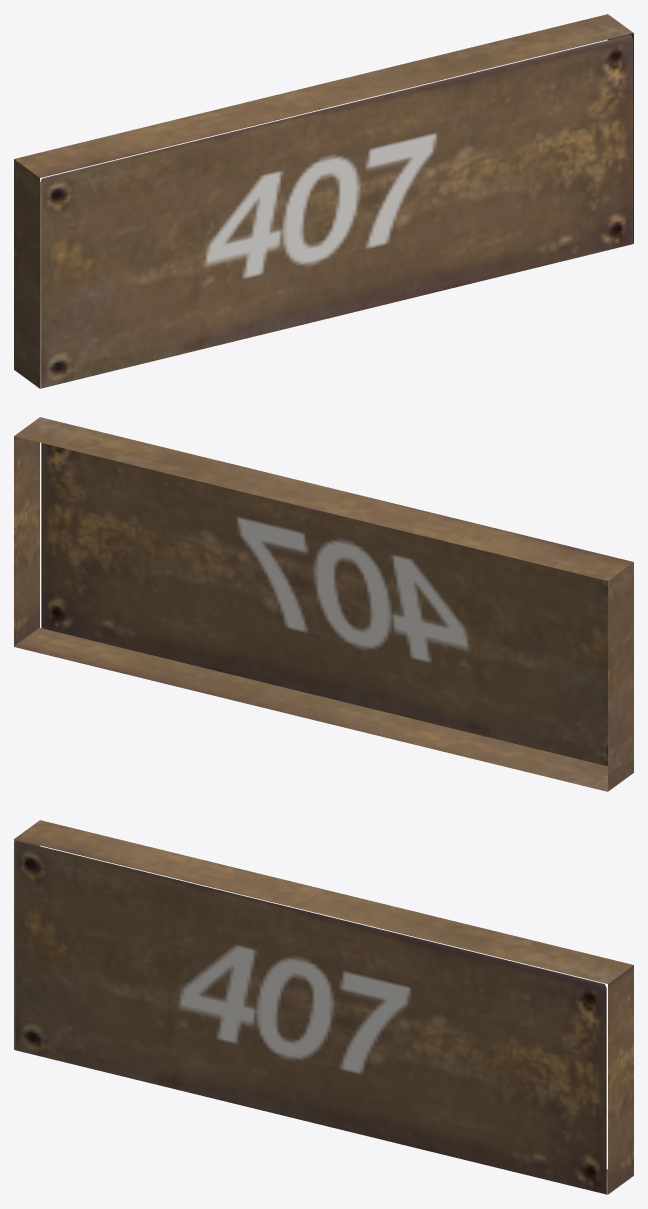
Rendered from 407_sign.FBX.
3 views of the same model, one above another, from view 1: azimuth 30°, elevation 25°; view 2: azimuth 150°, elevation 25°; view 3: azimuth 330°, elevation 25° (orthographic).
Visible parts, largest first — view 1: 407_sign; view 2: 407_sign; view 3: 407_sign.
Part boxes in pixels (left/top/right/bottom): 407_sign: left=14, top=14, right=633, bottom=388; 407_sign: left=14, top=417, right=633, bottom=791; 407_sign: left=14, top=820, right=633, bottom=1194.
Bounding box in the file's own units: 68.28 × 23.15 × 5.19.
